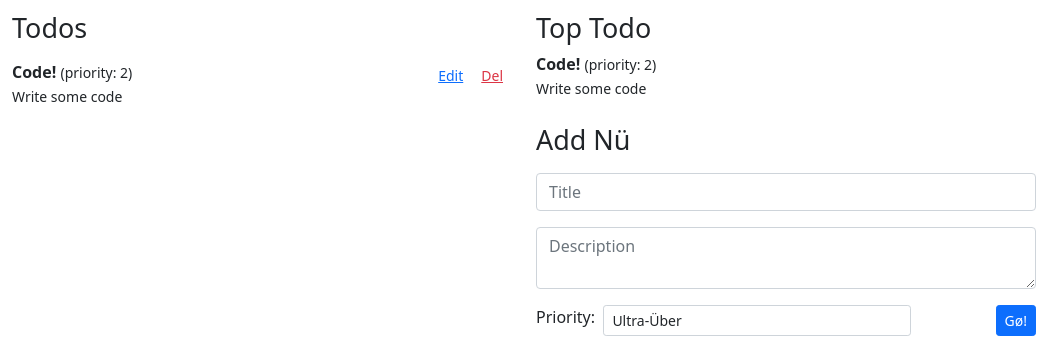
main TodoApp component › deleting a todo
Click the button "Del" at (492, 76), box x1=472 y1=60 x2=512 y2=91
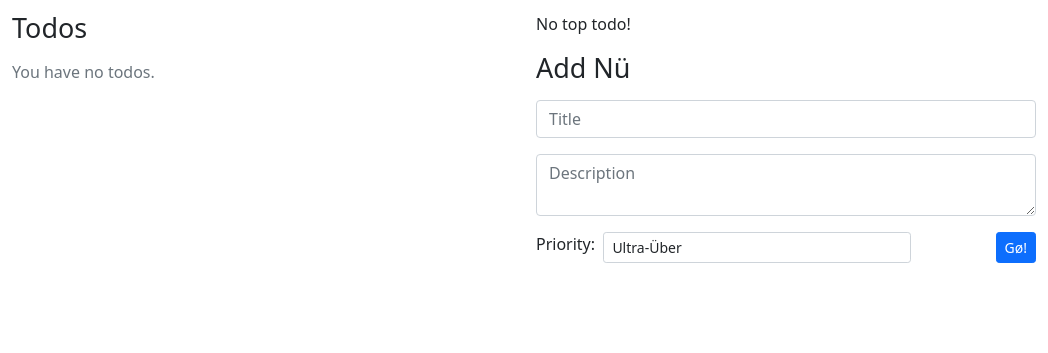
expect the text "Code!" is gone: met
expect the text "Write some code" is gone: met
expect the text "(priority: 2)" is gone: met
